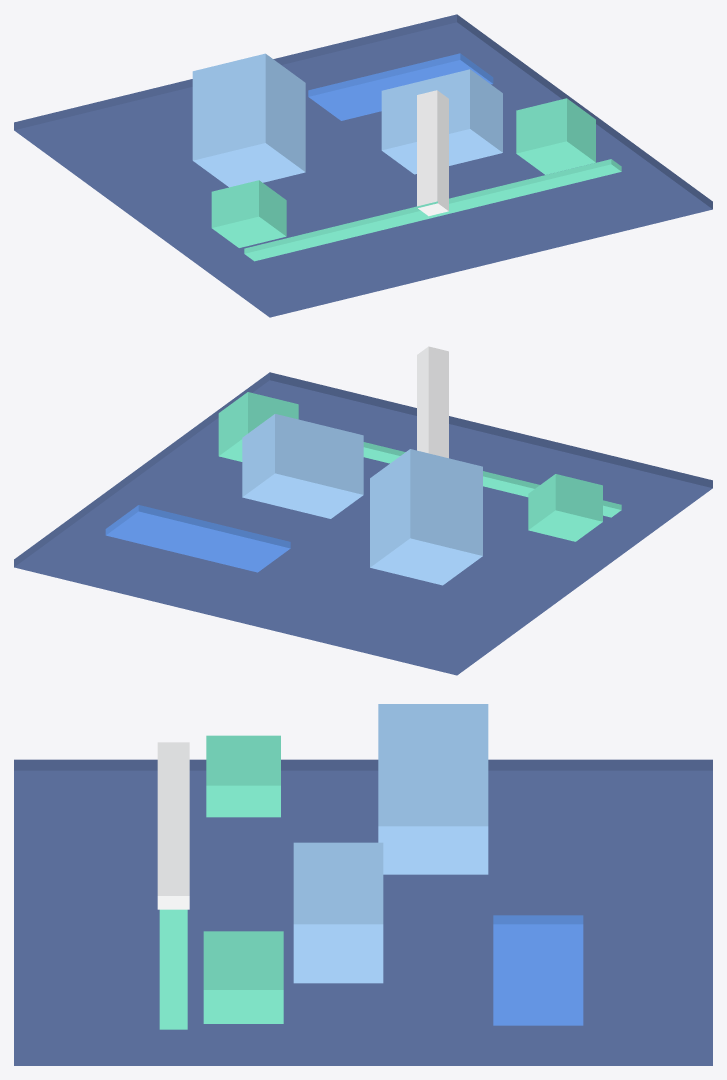
File: science-voyage.glb
3 views of the same model, one above another, from view 1: azimuth 30°, elevation 25°; view 2: azimuth 150°, elevation 25°; view 3: azimuth 270°, elevation 25° (orthographic). The views are drawn at different scales.
Visible parts, largest first — view 1: environment floor, main structure, secondary structure, route layer, context block b, environment plane, context block a, observation marker; view 2: environment floor, main structure, secondary structure, environment plane, context block a, observation marker, context block b, route layer; view 3: environment floor, main structure, secondary structure, environment plane, context block b, context block a, observation marker, route layer.
Boxes of the visible parts, left/top/right/bottom form: environment floor: left=14, top=14, right=712, bottom=317; main structure: left=192, top=53, right=305, bottom=187; secondary structure: left=381, top=69, right=502, bottom=174; route layer: left=244, top=159, right=621, bottom=261; context block b: left=516, top=98, right=595, bottom=174; environment plane: left=308, top=53, right=493, bottom=120; context block a: left=211, top=180, right=286, bottom=247; observation marker: left=417, top=90, right=448, bottom=216; environment floor: left=14, top=372, right=712, bottom=675; main structure: left=370, top=449, right=482, bottom=585; secondary structure: left=242, top=414, right=363, bottom=518; environment plane: left=105, top=505, right=290, bottom=572; context block a: left=528, top=474, right=602, bottom=541; observation marker: left=417, top=346, right=448, bottom=458; context block b: left=218, top=392, right=298, bottom=461; route layer: left=363, top=442, right=621, bottom=517; environment floor: left=14, top=759, right=712, bottom=1065; main structure: left=378, top=704, right=488, bottom=874; secondary structure: left=293, top=842, right=383, bottom=983; environment plane: left=493, top=915, right=583, bottom=1025; context block b: left=203, top=931, right=283, bottom=1023; context block a: left=206, top=735, right=280, bottom=817; observation marker: left=157, top=742, right=189, bottom=909; route layer: left=159, top=909, right=187, bottom=1029.
Size of the model in its own units: 7 by 1.87 by 7.
